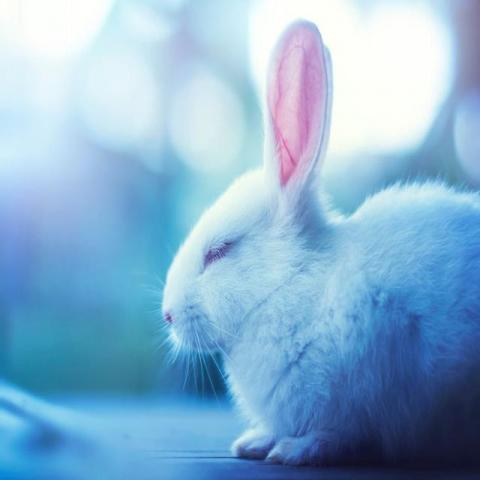small_animal: (153, 17, 479, 470)
